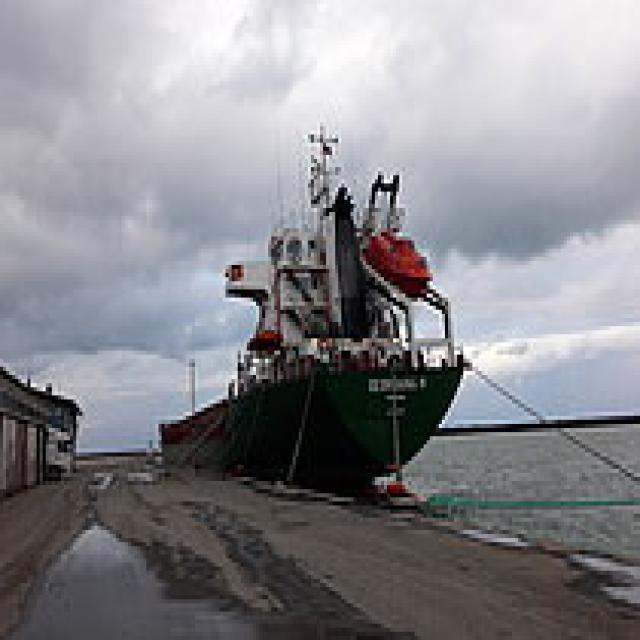Ship: (151, 120, 474, 511)
